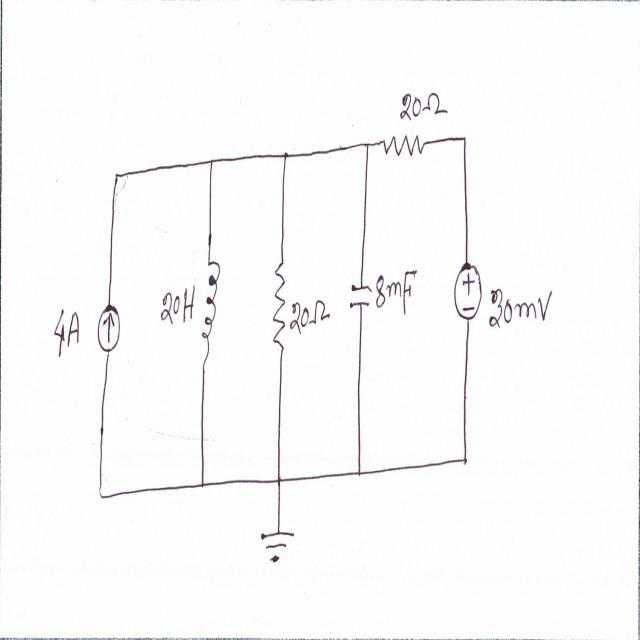capacitor: (347, 274, 374, 318)
current_source: (95, 296, 122, 358)
ground: (258, 526, 296, 571)
inductor: (196, 253, 222, 374)
resistor: (379, 125, 428, 164), (269, 255, 288, 354)
voltage_source: (452, 258, 484, 328)
